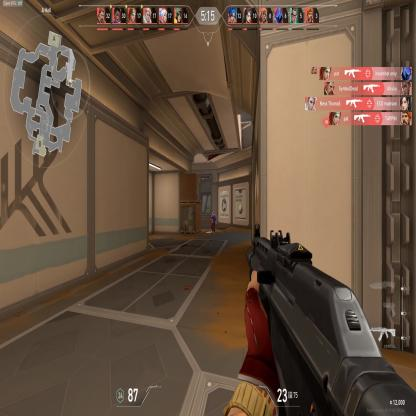enemy: (210, 209, 216, 232)
